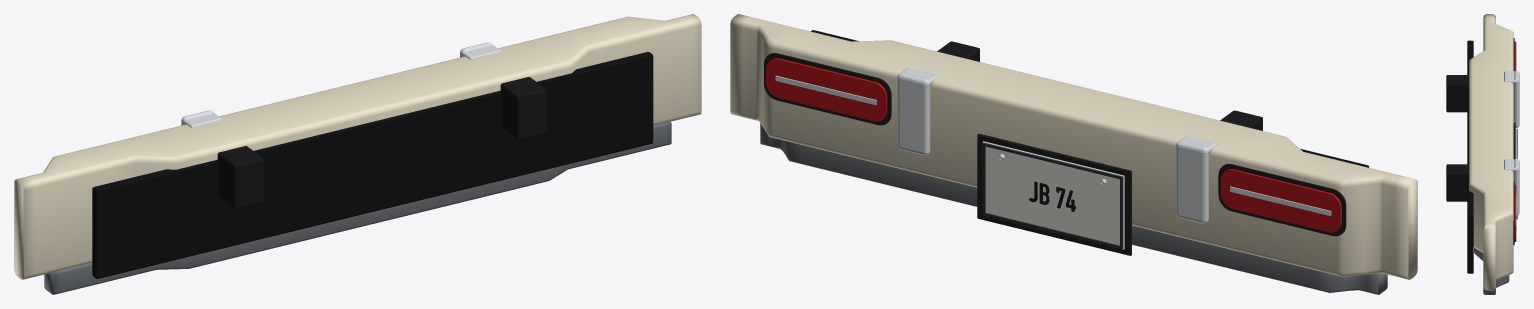
The model's file is rearBumper_damd_little_g_adv_rear.glb.
3 renders of one model, left to right at view 1: azimuth 30°, elevation 25°; view 2: azimuth 150°, elevation 25°; view 3: azimuth 270°, elevation 25°, orthographic. The views are drawn at different scales.
Visible parts, largest first — view 1: valance.024, body.018, lip.004, mount-1.022, mount1.022; view 2: body.018, plate.027, lip.004, lamp1, lamp-1, plateBase.001, rider1.002, rider-1.002, lampRecess-1, lampRecess1, lampBar1, lampBar-1 (+5 smaller); view 3: body.018, valance.024, mount-1.022, mount1.022, rider-1.002, rider1.002, lip.004, lamp1, riderTop-1.002, riderTop1.002, lampRecess1, plateBase.001 (+2 smaller).
Boxes of the visible parts, x1,y1,x2,y2 form: valance.024: [92, 52, 653, 278]; body.018: [14, 14, 701, 279]; lip.004: [44, 121, 671, 294]; mount-1.022: [217, 146, 263, 209]; mount1.022: [500, 77, 546, 140]; body.018: [730, 14, 1417, 279]; plate.027: [982, 141, 1124, 249]; lip.004: [760, 123, 1387, 294]; lamp1: [766, 58, 887, 121]; lamp-1: [1220, 169, 1341, 232]; plateBase.001: [977, 133, 1131, 255]; rider1.002: [897, 73, 930, 155]; rider-1.002: [1176, 141, 1208, 223]; lampRecess-1: [1218, 164, 1346, 236]; lampRecess1: [764, 53, 891, 125]; lampBar1: [775, 75, 876, 105]; lampBar-1: [1230, 186, 1331, 216]; body.018: [1469, 14, 1513, 290]; valance.024: [1467, 40, 1473, 273]; mount-1.022: [1446, 75, 1468, 112]; mount1.022: [1446, 164, 1468, 201]; rider-1.002: [1513, 70, 1519, 127]; rider1.002: [1513, 158, 1519, 215]; lip.004: [1474, 247, 1509, 294]; lamp1: [1514, 185, 1516, 241]; riderTop-1.002: [1504, 71, 1516, 83]; riderTop1.002: [1504, 159, 1516, 171]; lampRecess1: [1513, 181, 1514, 245]; plateBase.001: [1513, 122, 1515, 159].
Bounding box in the file's own units: 1.58 × 0.286 × 0.228.
